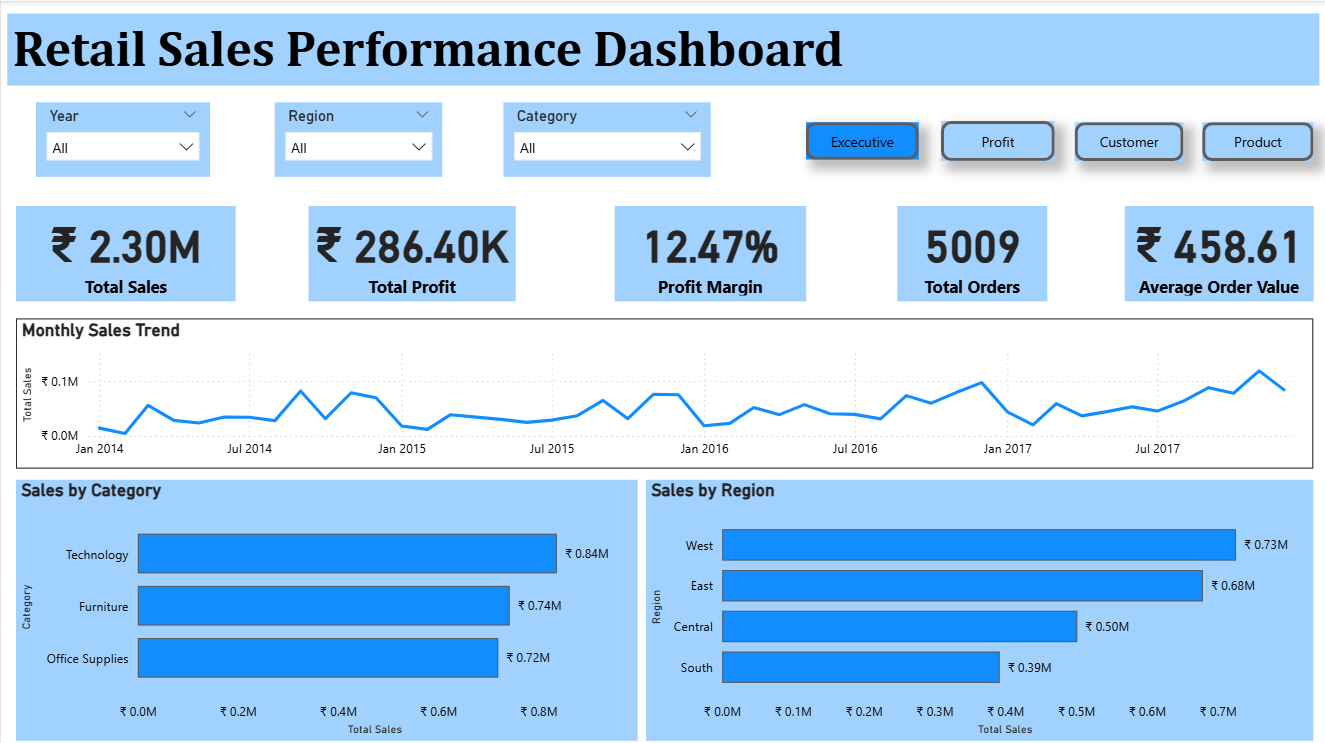

The page's visual inventory and layout, read from the dashboard file:
{"tool":"powerbi","page":{"name":"Page 1","canvas":[1280,720],"ordinal":0},"visuals":[{"type":"card","fields":{"Values":["superstore_final.Total Sales"]},"box":[14.5,197.9,212.3,91.7],"z":0},{"type":"card","fields":{"Values":["superstore_final.Total Profit"]},"box":[296.8,197.9,200.3,91.7],"z":1000},{"type":"card","fields":{"Values":["superstore_final.Total Orders"]},"box":[865,197.9,144.8,91.7],"z":2000},{"type":"card","fields":{"Values":["superstore_final.Profit Margin"]},"box":[592.4,197.9,184.6,91.7],"z":3000},{"type":"card","fields":{"Values":["superstore_final.Average Order Value"]},"box":[1084.6,197.9,182.2,91.7],"z":4000},{"type":"textbox","box":[6,12.1,1266.8,70],"z":5000},{"type":"lineChart","title":"Monthly Sales Trend","fields":{"Y":["superstore_final.Total Sales"],"Category":["superstore_final.Order Date.Variation.Date Hierarchy.Year","superstore_final.Order Date.Variation.Date Hierarchy.Month"]},"box":[14.5,306.4,1252.3,144.8],"z":6000},{"type":"clusteredBarChart","title":"Sales by Category","fields":{"Category":["superstore_final.Category"],"Y":["superstore_final.Total Sales"]},"box":[14.5,462.1,599.6,252.1],"z":7000},{"type":"clusteredBarChart","title":"Sales by Region","fields":{"Category":["superstore_final.Region"],"Y":["superstore_final.Total Sales"]},"box":[622.5,462.1,644.2,252.1],"z":8000},{"type":"slicer","fields":{"Values":["superstore_final.Order Date.Variation.Date Hierarchy.Year"]},"box":[33.8,97.7,167.7,72.4],"z":9000},{"type":"slicer","fields":{"Values":["superstore_final.Region"]},"box":[264.2,97.7,161.7,72.4],"z":10000},{"type":"slicer","fields":{"Values":["superstore_final.Category"]},"box":[485,97.7,200.3,72.4],"z":11000},{"type":"actionButton","box":[1159.4,117,107.4,37.4],"z":11001},{"type":"actionButton","box":[907.2,115.8,109.8,38.6],"z":11002},{"type":"actionButton","box":[1036.3,117,105,37.4],"z":11003},{"type":"actionButton","box":[776.9,117,108.6,36.2],"z":11004}]}

Visuals, with their boxes in screenshot pixels (x1, y1, x2, y2), scaled from the page's 1280x720 canvas onto the 1325x743 screenshot:
card - superstore_final.Total Sales: 15:204:235:299
card - superstore_final.Total Profit: 307:204:515:299
card - superstore_final.Total Orders: 895:204:1045:299
card - superstore_final.Profit Margin: 613:204:804:299
card - superstore_final.Average Order Value: 1123:204:1311:299
textbox: 6:12:1318:85
"Monthly Sales Trend" lineChart: 15:316:1311:466
"Sales by Category" clusteredBarChart: 15:477:636:737
"Sales by Region" clusteredBarChart: 644:477:1311:737
slicer - superstore_final.Order Date.Variation.Date Hierarchy.Year: 35:101:209:176
slicer - superstore_final.Region: 273:101:441:176
slicer - superstore_final.Category: 502:101:709:176
actionButton: 1200:121:1311:159
actionButton: 939:119:1053:159
actionButton: 1073:121:1181:159
actionButton: 804:121:917:158
